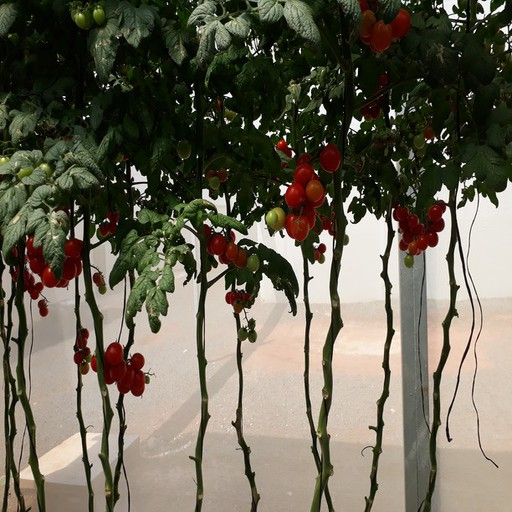green tomato bunch: (69, 1, 106, 27)
mixed tomato bunch: (311, 202, 348, 263), (205, 166, 229, 190)
red tomato bunch: (286, 145, 341, 239), (340, 1, 411, 52), (1, 243, 51, 315), (390, 201, 446, 256), (27, 233, 82, 288), (91, 342, 147, 395), (199, 223, 251, 268), (348, 72, 392, 121), (73, 329, 93, 377), (96, 206, 122, 236), (225, 288, 254, 313)
